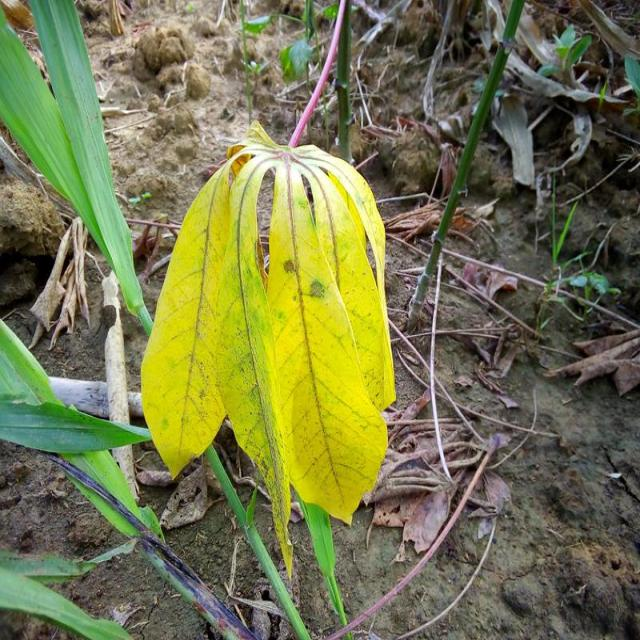cassava leaf: (140, 117, 398, 577), (2, 0, 155, 336)
